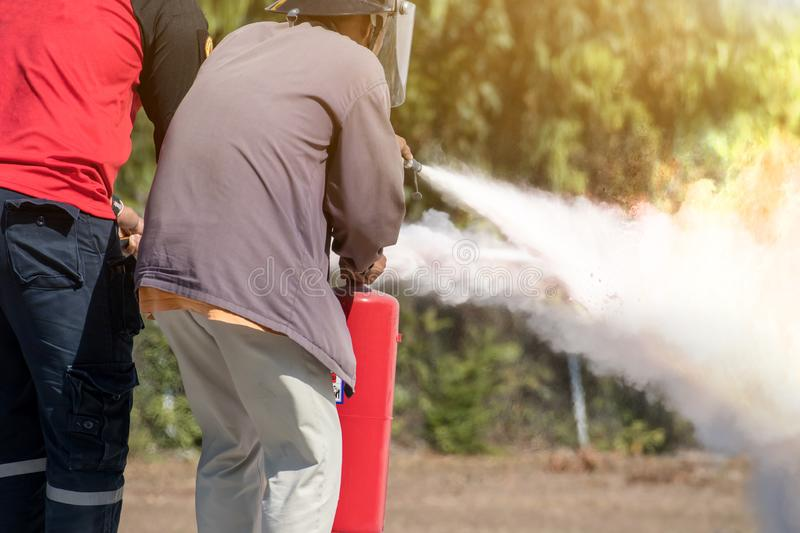fire_extinguisher: (328, 274, 403, 532)
